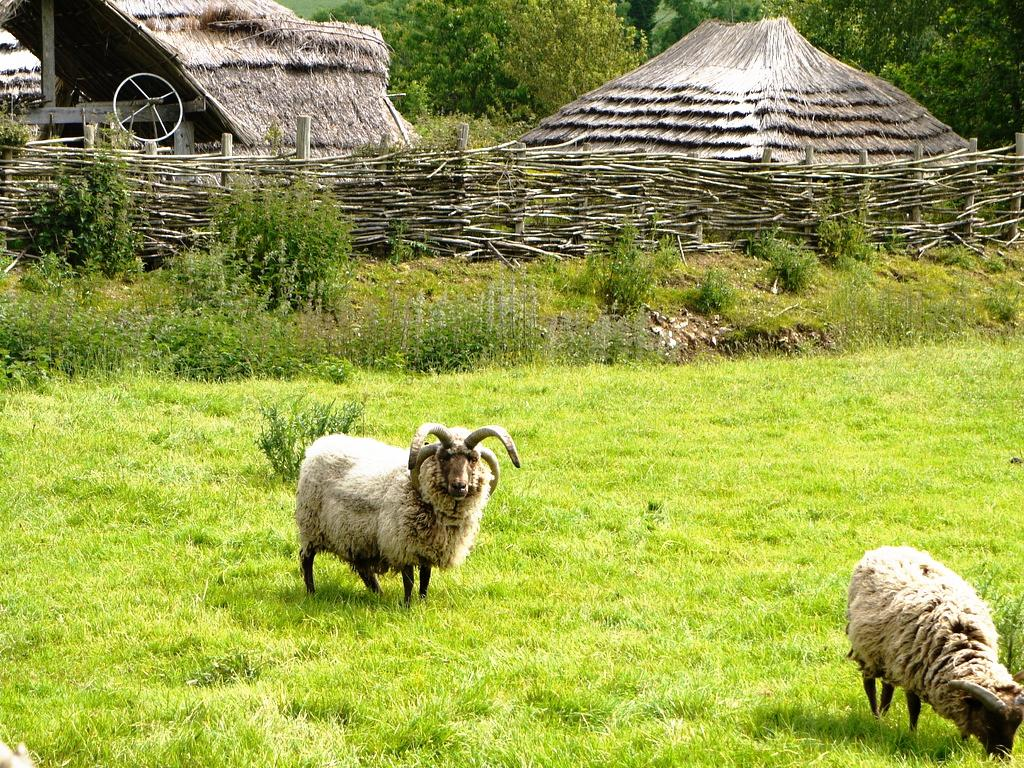Sheep: (297, 421, 520, 604), (844, 544, 1024, 764)
